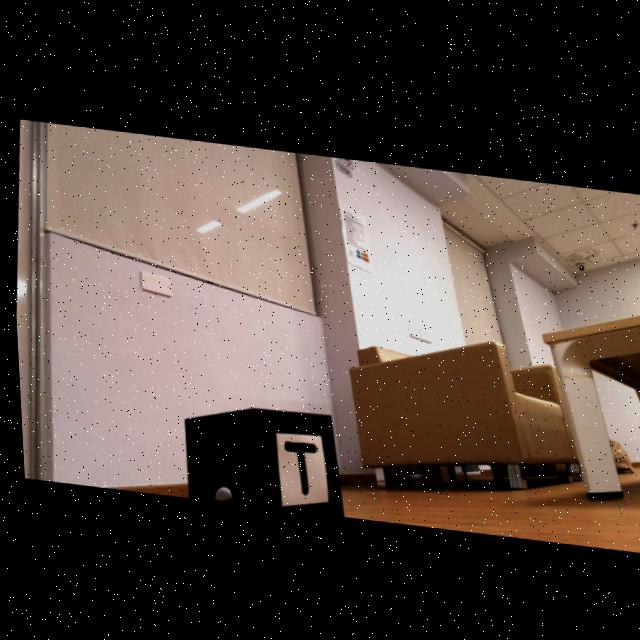T: (280, 438, 312, 492)
